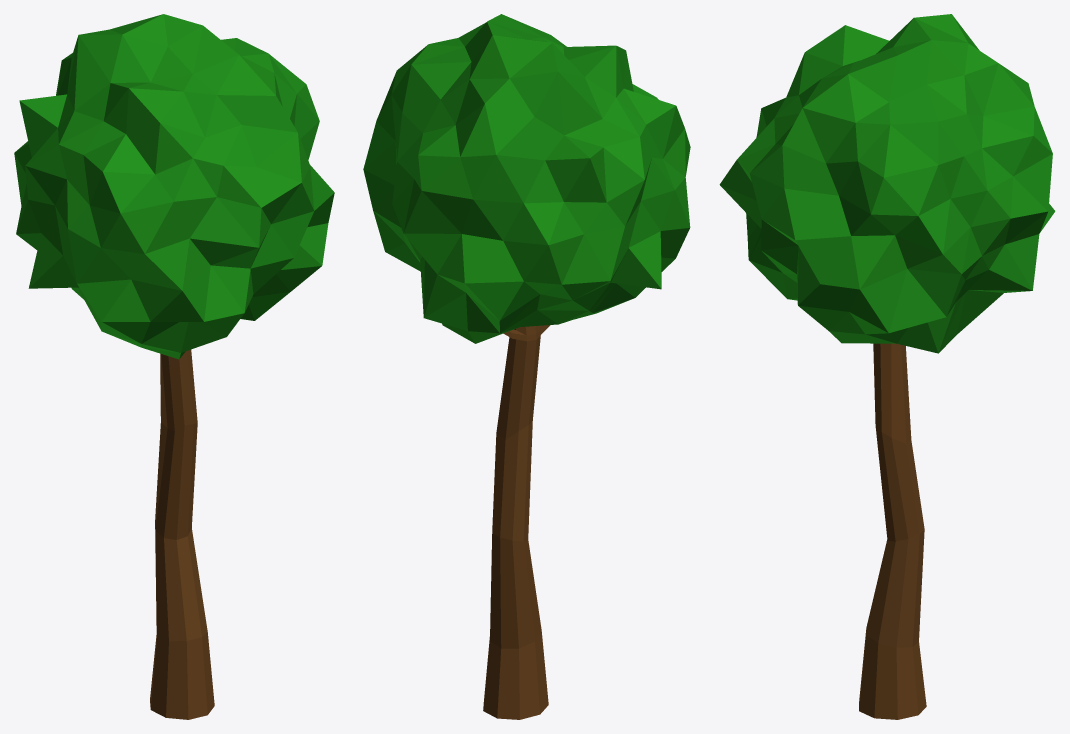
Rendered from Arvores01.fbx.
3 views of the same model, side by side, from view 1: azimuth 30°, elevation 25°; view 2: azimuth 150°, elevation 25°; view 3: azimuth 270°, elevation 25° (orthographic). The views are drawn at different scales.
Visible parts, largest first — view 1: Cylinder; view 2: Cylinder; view 3: Cylinder.
Part boxes in pixels (box(x1,y1,x2,y2)): Cylinder: box(14, 14, 334, 719); Cylinder: box(363, 14, 690, 719); Cylinder: box(719, 14, 1055, 719).
Size of the model in its own units: 7.42 by 17.33 by 7.9.
